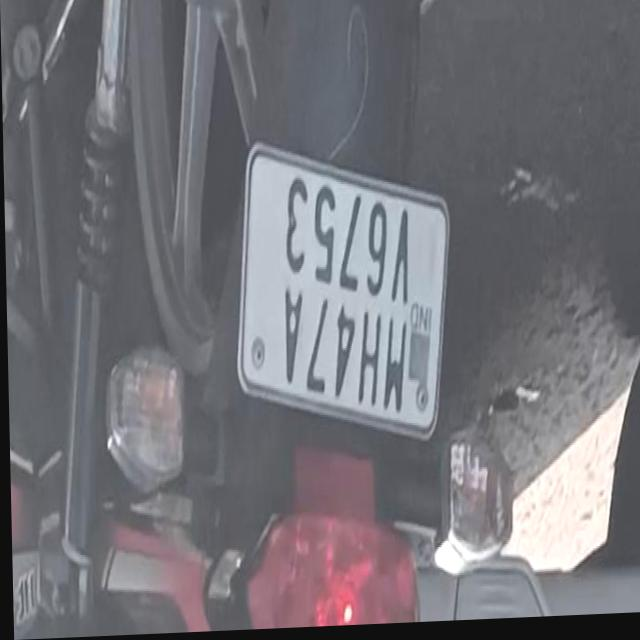3: (282, 174, 310, 275)
4: (330, 308, 354, 401)
5: (310, 189, 337, 287)
6: (362, 203, 387, 297)
7: (336, 191, 364, 296), (302, 301, 330, 396)
a: (279, 289, 303, 379)
h: (354, 313, 381, 410)
m: (380, 322, 406, 422)
v: (387, 209, 414, 309)
